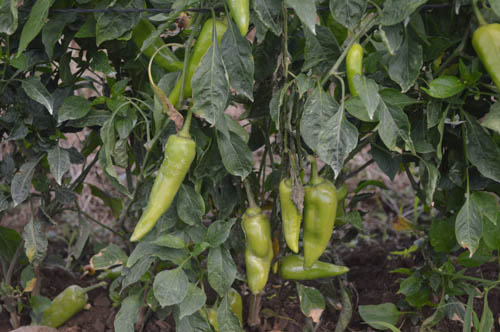ChiliPepper: (127, 137, 197, 251), (168, 19, 227, 113), (303, 182, 335, 263), (134, 19, 181, 69), (465, 22, 496, 91), (280, 254, 344, 284), (338, 43, 365, 100), (44, 285, 82, 325), (243, 244, 273, 291), (241, 211, 270, 254), (279, 180, 296, 248)
